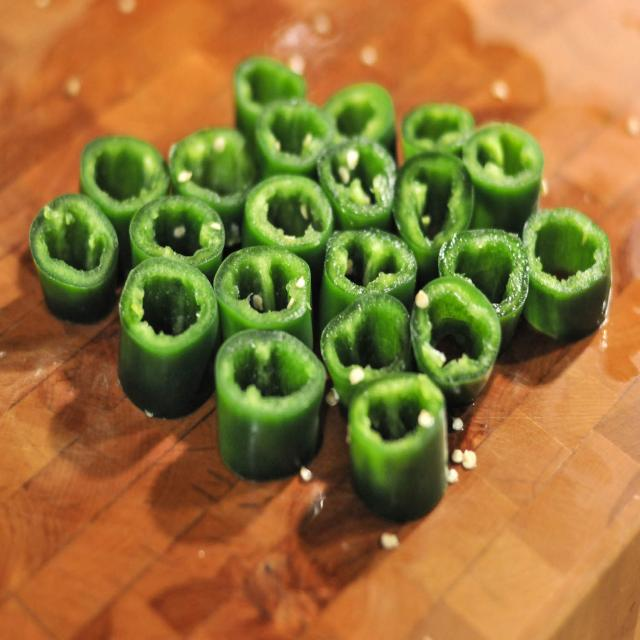aji: (31, 70, 591, 500)
